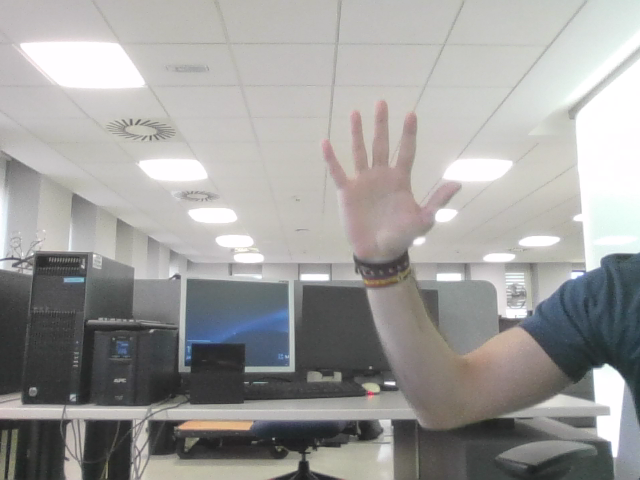Mano Abierta: (331, 112, 446, 231)
